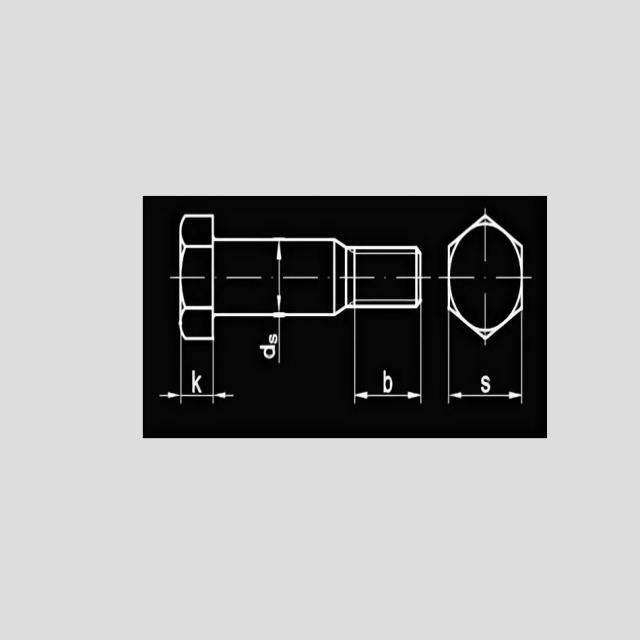marking_line: (353, 310, 425, 406), (159, 341, 237, 411), (447, 345, 523, 404), (158, 341, 186, 410), (209, 343, 234, 410), (510, 317, 524, 403), (447, 319, 459, 411), (274, 242, 284, 312)
